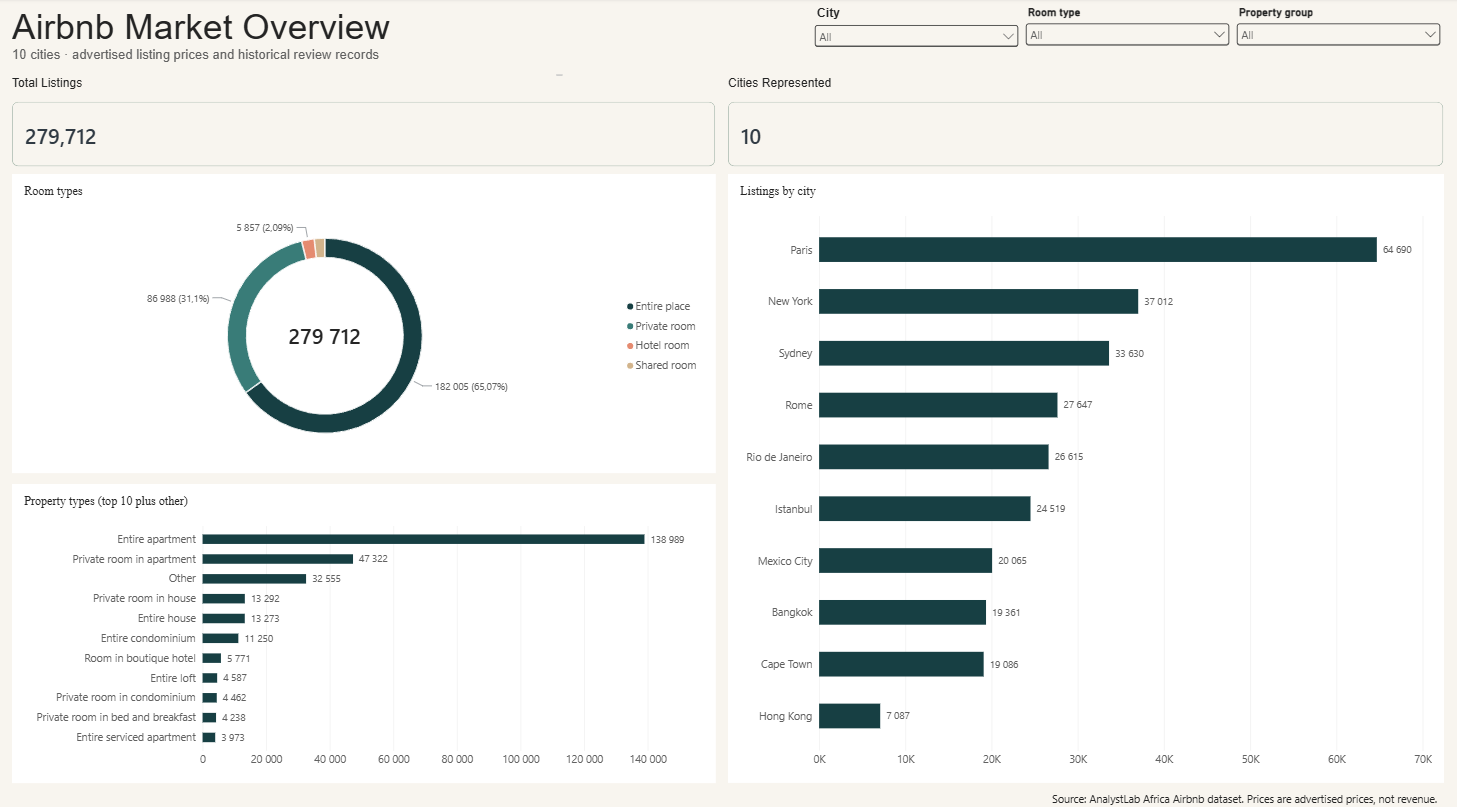

The page's visual inventory and layout, read from the dashboard file:
{"tool":"powerbi","page":{"name":"Airbnb Market Overview","canvas":[1920,1080],"ordinal":0},"visuals":[{"type":"cardVisual","fields":{"Data":["listings_clean.Total Listings (exact)"]},"box":[17.5,95.2,927,119],"z":0},{"type":"cardVisual","fields":{"Data":["listings_clean.Cities Represented"]},"box":[960.3,95.2,942.9,119],"z":1000},{"type":"clusteredBarChart","title":"Listings by city","fields":{"Category":["dim_city.city"],"Y":["listings_clean.Total Listings"]},"box":[960.3,231.7,942.9,801.6],"z":2000},{"type":"donutChart","title":"Room types","fields":{"Category":["dim_room_type.room_type"],"Y":["listings_clean.Total Listings"]},"box":[17.5,231.7,927,393.7],"z":3000},{"type":"clusteredBarChart","title":"Property types (top 10 plus other)","fields":{"Category":["dim_property_type.property_type_group"],"Y":["listings_clean.Total Listings"]},"box":[17.5,639.7,927,393.7],"z":4000},{"type":"slicer","fields":{"Values":["dim_city.city"]},"box":[998.4,11.1,277.8,60.3],"z":5000},{"type":"slicer","fields":{"Values":["dim_room_type.room_type"]},"box":[1276.2,11.1,277.8,60.3],"z":6000},{"type":"slicer","fields":{"Values":["dim_property_type.property_type_group"]},"box":[1554,11.1,277.8,60.3],"z":7000},{"type":"textbox","title":"Airbnb Market Overview","box":[17.5,11.1,725.4,92.1],"z":9000},{"type":"textbox","box":[1387.3,1046,515.9,33.3],"z":10000}]}

Visuals, with their boxes in screenshot pixels (x1, y1, x2, y2), scaled from the page's 1920x1080 canvas onto the 1457x807 screenshot:
cardVisual - listings_clean.Total Listings (exact): Rect(13, 71, 717, 160)
cardVisual - listings_clean.Cities Represented: Rect(729, 71, 1444, 160)
"Listings by city" clusteredBarChart: Rect(729, 173, 1444, 772)
"Room types" donutChart: Rect(13, 173, 717, 467)
"Property types (top 10 plus other)" clusteredBarChart: Rect(13, 478, 717, 772)
slicer - dim_city.city: Rect(758, 8, 968, 53)
slicer - dim_room_type.room_type: Rect(968, 8, 1179, 53)
slicer - dim_property_type.property_type_group: Rect(1179, 8, 1390, 53)
"Airbnb Market Overview" textbox: Rect(13, 8, 564, 77)
textbox: Rect(1053, 782, 1444, 806)
